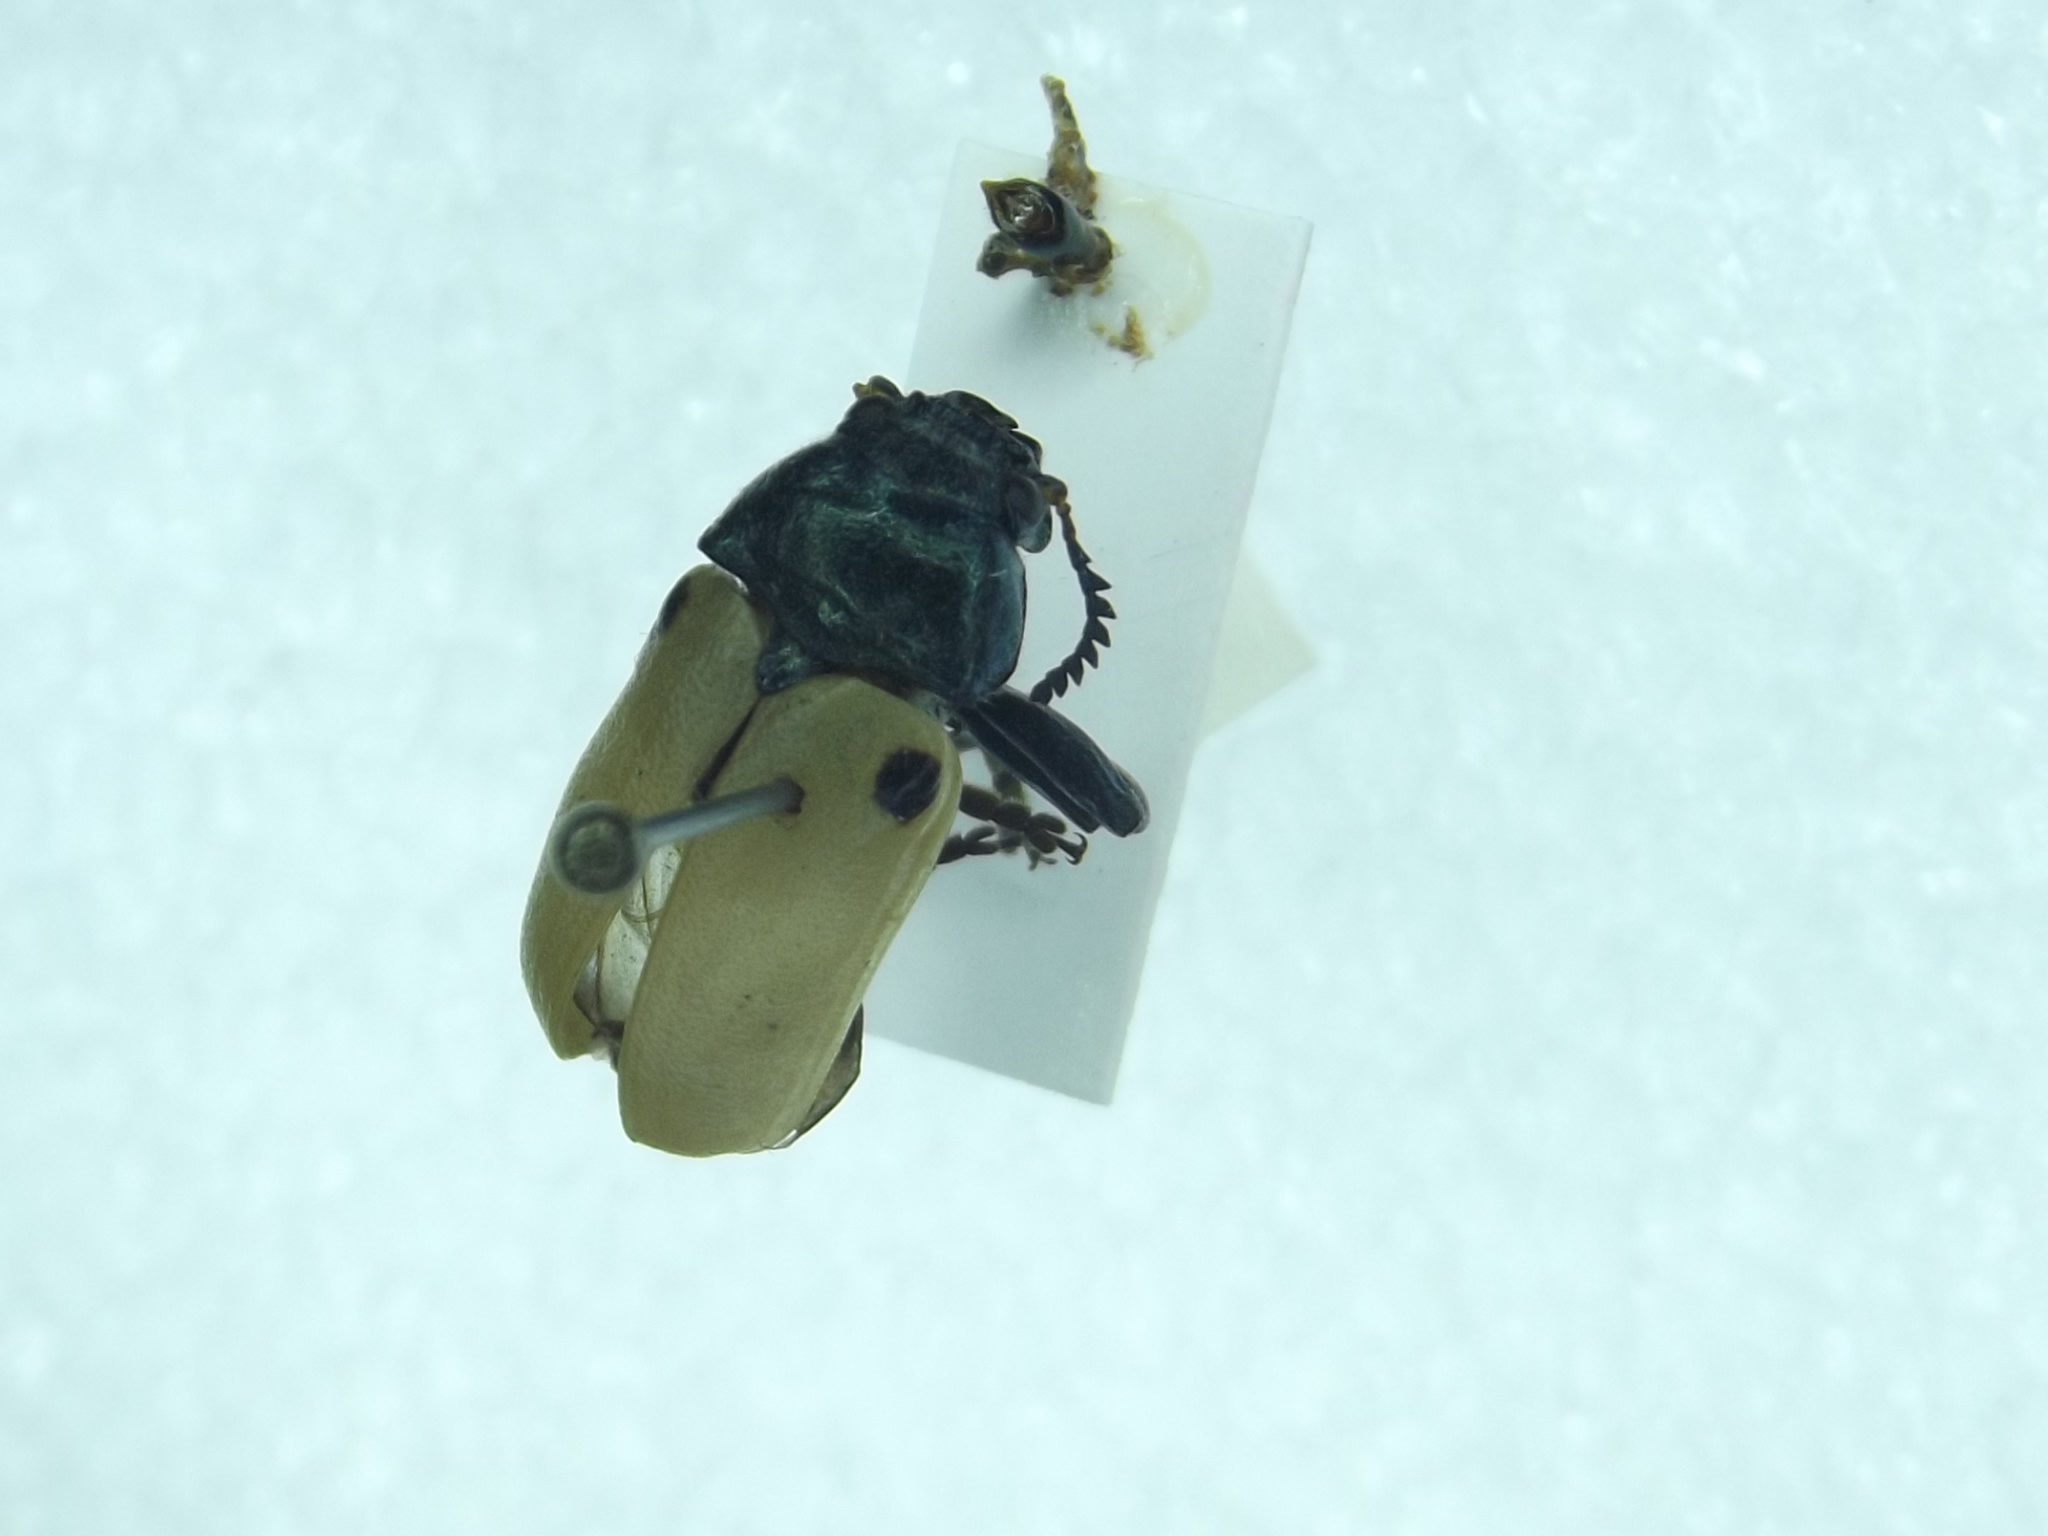Labidostomis_asiatica: (513, 361, 1156, 1183)
